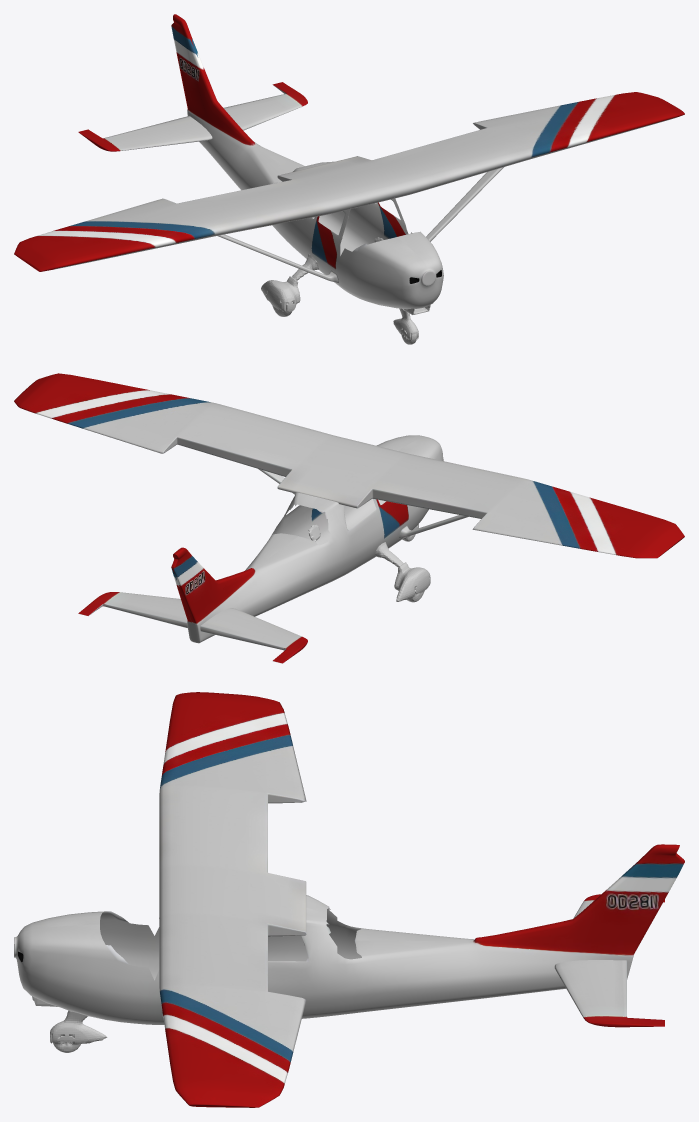
The model's file is CessnaBodyOrig.obj.
3 renders of one model, top to bottom at view 1: azimuth 30°, elevation 25°; view 2: azimuth 150°, elevation 25°; view 3: azimuth 270°, elevation 25°, orthographic. The views are drawn at different scales.
Visible parts, largest first — view 1: A23DOBJ_001_Mesh.007, A23DOBJ_001_Mesh.026, A23DOBJ_001_Mesh.006, A23DOBJ_001_Mesh.024, A23DOBJ_001_Mesh.019, A23DOBJ_001_Mesh.020; view 2: A23DOBJ_001_Mesh.007, A23DOBJ_001_Mesh.026, A23DOBJ_001_Mesh.006, A23DOBJ_001_Mesh.024; view 3: A23DOBJ_001_Mesh.007, A23DOBJ_001_Mesh.026, A23DOBJ_001_Mesh.006, A23DOBJ_001_Mesh.023.
Part boxes in pixels (box(x1,y1,x2,y2)): A23DOBJ_001_Mesh.007: box(14, 92, 684, 271); A23DOBJ_001_Mesh.026: box(171, 14, 443, 309); A23DOBJ_001_Mesh.006: box(78, 82, 307, 151); A23DOBJ_001_Mesh.024: box(261, 276, 300, 311); A23DOBJ_001_Mesh.019: box(426, 167, 503, 241); A23DOBJ_001_Mesh.020: box(218, 234, 338, 282); A23DOBJ_001_Mesh.007: box(14, 373, 684, 558); A23DOBJ_001_Mesh.026: box(171, 435, 443, 643); A23DOBJ_001_Mesh.006: box(78, 592, 307, 663); A23DOBJ_001_Mesh.024: box(394, 562, 430, 601); A23DOBJ_001_Mesh.007: box(159, 692, 306, 1107); A23DOBJ_001_Mesh.026: box(14, 844, 684, 1024); A23DOBJ_001_Mesh.006: box(554, 894, 664, 1027); A23DOBJ_001_Mesh.023: box(50, 1010, 107, 1044).
Size of the model in its own units: 8.48 by 1.98 by 5.83.
